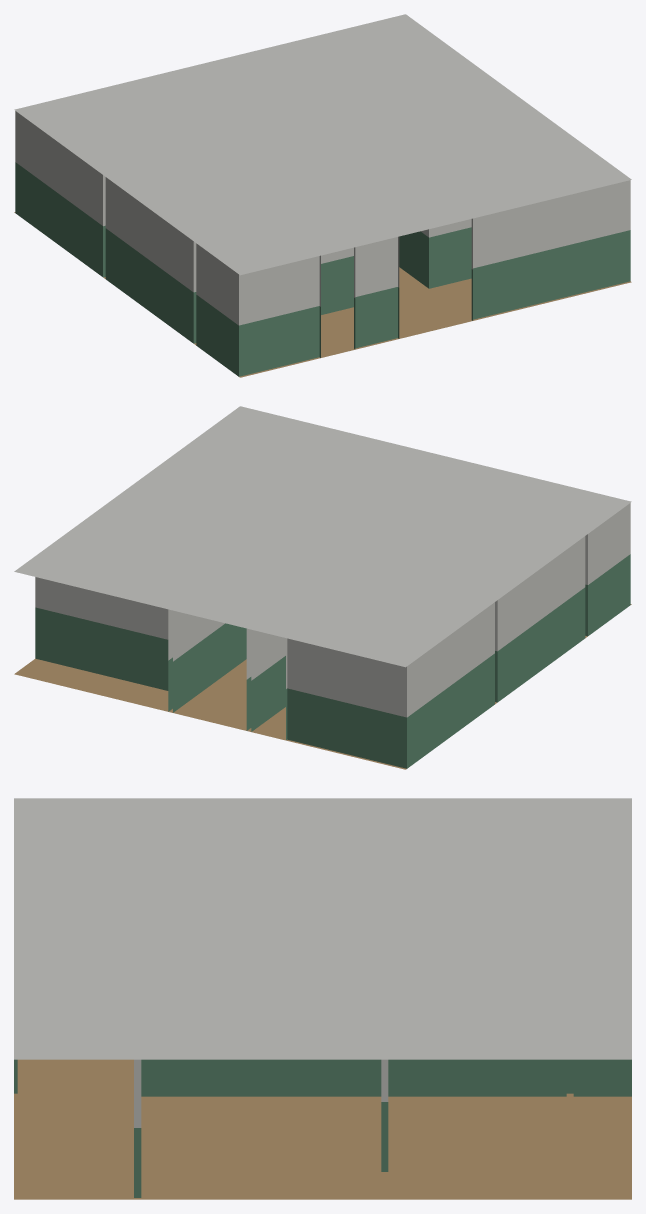
The model's file is chunk_0_2.glb.
3 views of the same model, one above another, from view 1: azimuth 30°, elevation 25°; view 2: azimuth 150°, elevation 25°; view 3: azimuth 270°, elevation 25° (orthographic). The views are drawn at different scales.
Visible parts, largest first — view 1: chunk_0_2; view 2: chunk_0_2; view 3: chunk_0_2.
Boxes of the visible parts, x1,y1,x2,y2 form: chunk_0_2: [14, 14, 631, 377]; chunk_0_2: [14, 406, 631, 769]; chunk_0_2: [14, 798, 631, 1199].
Size of the model in its own units: 12 by 3 by 12.
